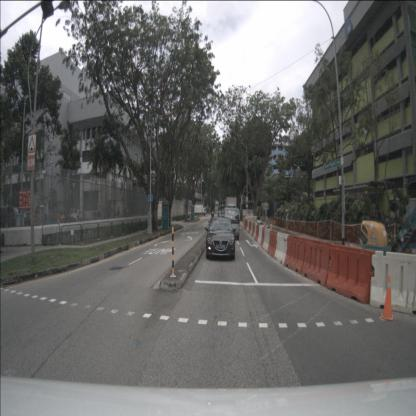movable_object-barrier: (325, 243, 375, 303), (369, 252, 416, 314), (302, 238, 333, 288), (284, 235, 308, 275), (274, 233, 291, 266), (266, 230, 279, 260), (262, 228, 273, 254), (256, 224, 264, 245), (260, 227, 266, 248), (254, 224, 260, 242), (253, 224, 257, 239), (251, 223, 255, 236), (248, 221, 252, 234), (246, 220, 250, 233), (244, 219, 248, 230), (242, 217, 246, 227), (249, 223, 252, 235)
movable_object-trafficcone: (381, 274, 394, 323)
vehicle-car: (206, 217, 235, 260), (0, 206, 22, 227), (46, 210, 65, 224), (67, 208, 83, 223), (20, 211, 36, 226)
vehicle-truck: (223, 208, 240, 240), (226, 197, 237, 224), (192, 204, 206, 216)
